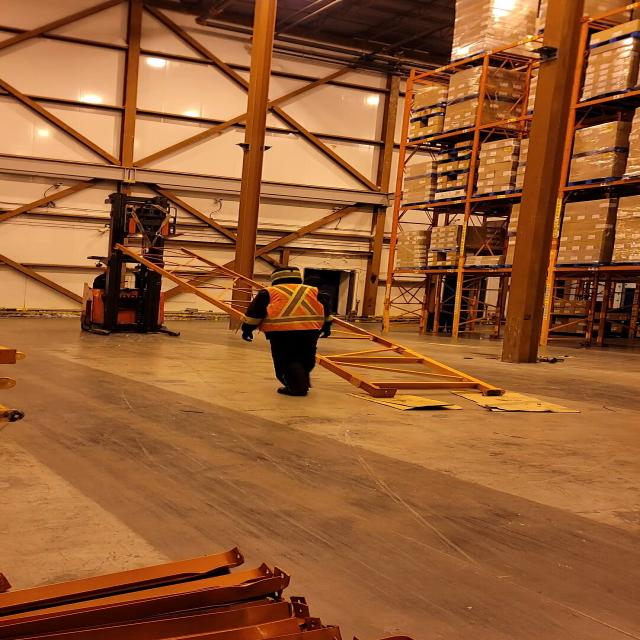forklift: (77, 197, 184, 339)
human: (243, 264, 336, 398), (91, 265, 138, 293)
objectofinterest: (106, 241, 512, 399), (445, 384, 583, 414), (341, 386, 465, 411)
